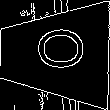O_W: (26, 32, 83, 76)
